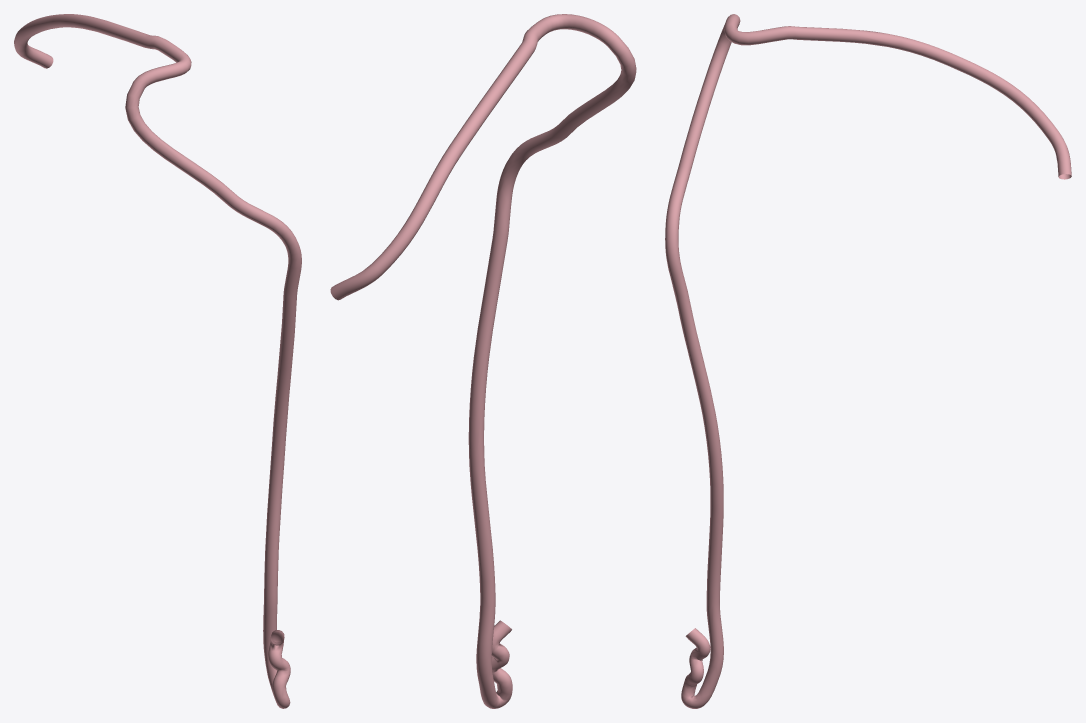
Rendered from visceras-ductus-deferens-r.glb.
3 renders of one model, left to right at view 1: azimuth 30°, elevation 25°; view 2: azimuth 150°, elevation 25°; view 3: azimuth 270°, elevation 25°, orthographic. The views are drawn at different scales.
Visible parts, largest first — view 1: Ductus deferens.r; view 2: Ductus deferens.r; view 3: Ductus deferens.r.
Boxes of the visible parts, left/top/right/bottom form: Ductus deferens.r: left=14, top=14, right=301, bottom=708; Ductus deferens.r: left=330, top=14, right=636, bottom=708; Ductus deferens.r: left=665, top=14, right=1071, bottom=708.
Size of the model in its own units: 0.0388 by 0.1591 by 0.091.
